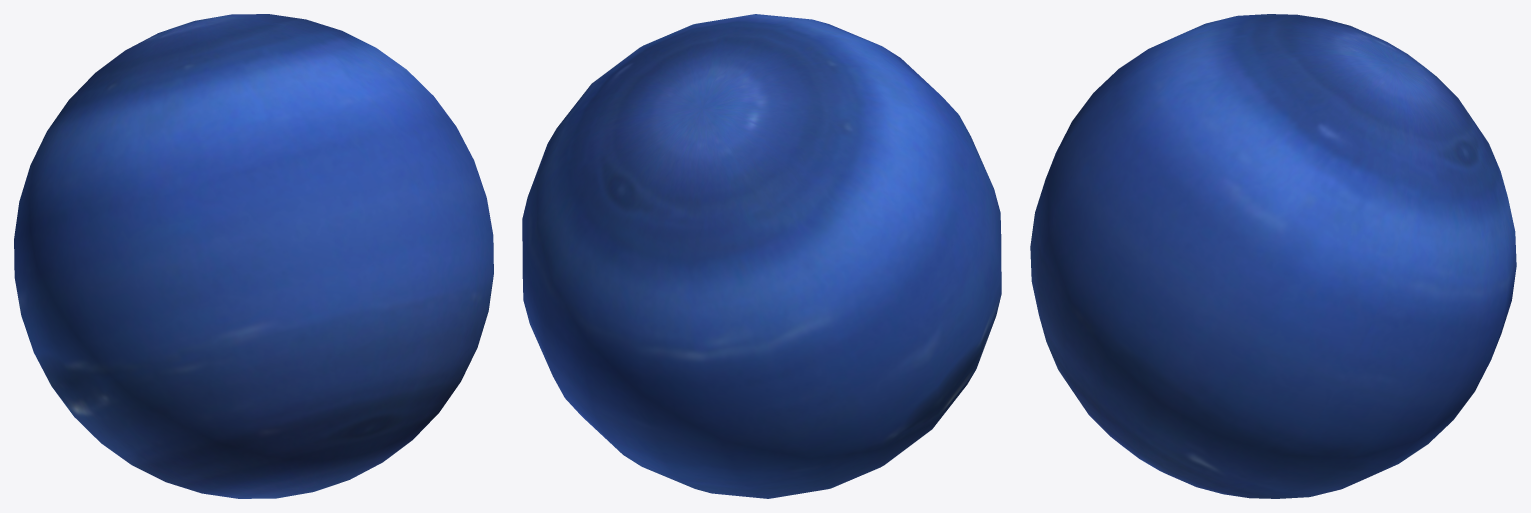
Rendered from Uranus.fbx.
3 views of the same model, side by side, from view 1: azimuth 30°, elevation 25°; view 2: azimuth 150°, elevation 25°; view 3: azimuth 270°, elevation 25° (orthographic).
Parts seen in each view (by area): view 1: pSphere9; view 2: pSphere9; view 3: pSphere9.
Part boxes in pixels (left/top/right/bottom): pSphere9: left=14, top=14, right=493, bottom=498; pSphere9: left=522, top=14, right=1001, bottom=498; pSphere9: left=1030, top=14, right=1516, bottom=498.
Bounding box in the file's own units: 3.08 × 3.07 × 3.07.
1 material, 1 textured.
